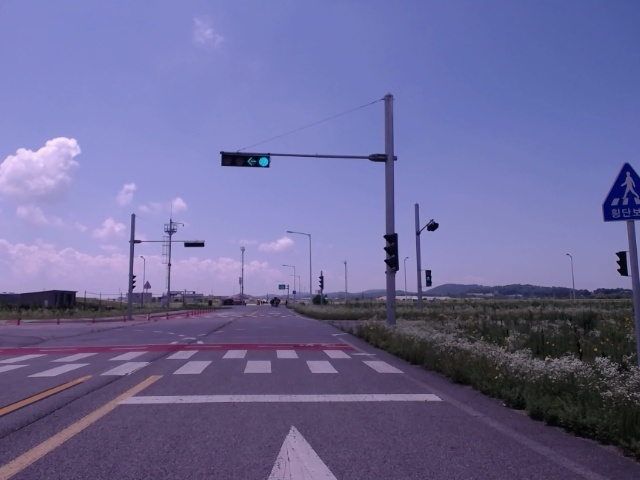all_green_4: (222, 151, 270, 166)
